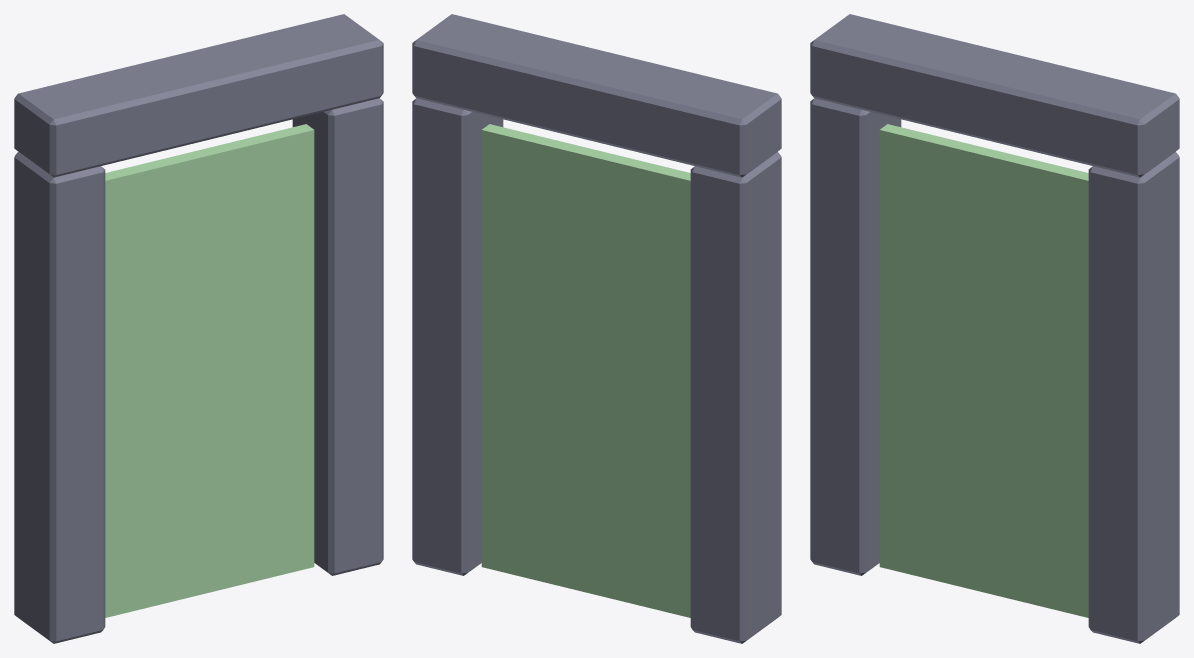
Rendered from Porta_Conclusao.fbx.
3 renders of one model, left to right at view 1: azimuth 30°, elevation 25°; view 2: azimuth 150°, elevation 25°; view 3: azimuth 330°, elevation 25°, orthographic.
Parts seen in each view (by area): view 1: Porta_Conclusao; view 2: Porta_Conclusao; view 3: Porta_Conclusao.
Part boxes in pixels (box(x1,y1,x2,y2)): Porta_Conclusao: box(14, 14, 383, 643); Porta_Conclusao: box(412, 14, 781, 643); Porta_Conclusao: box(810, 14, 1179, 643).
Bounding box in the file's own units: 2.4 × 3.6 × 0.5.
